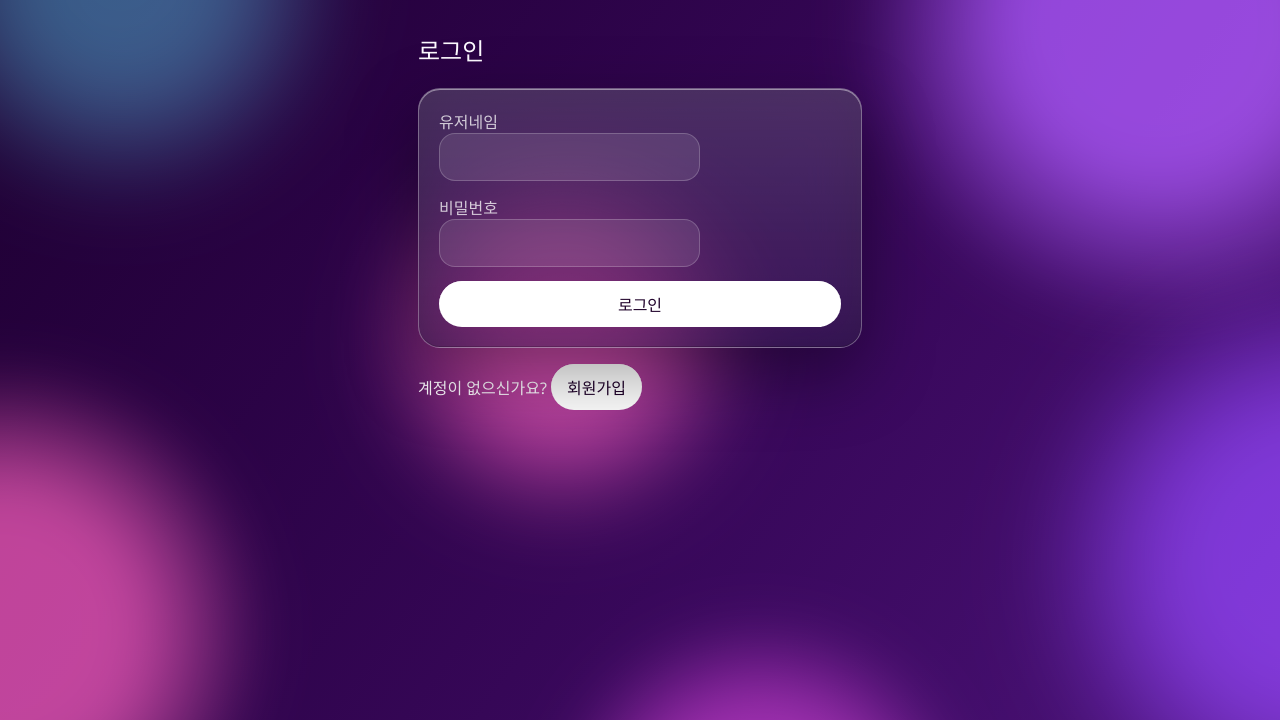
Test: LoginPage — validation and submit › client validation: too-short username blocks the request and shows a field error
Type "a" into the field labelled "유저네임" at (570, 157), box [439,133,700,181]
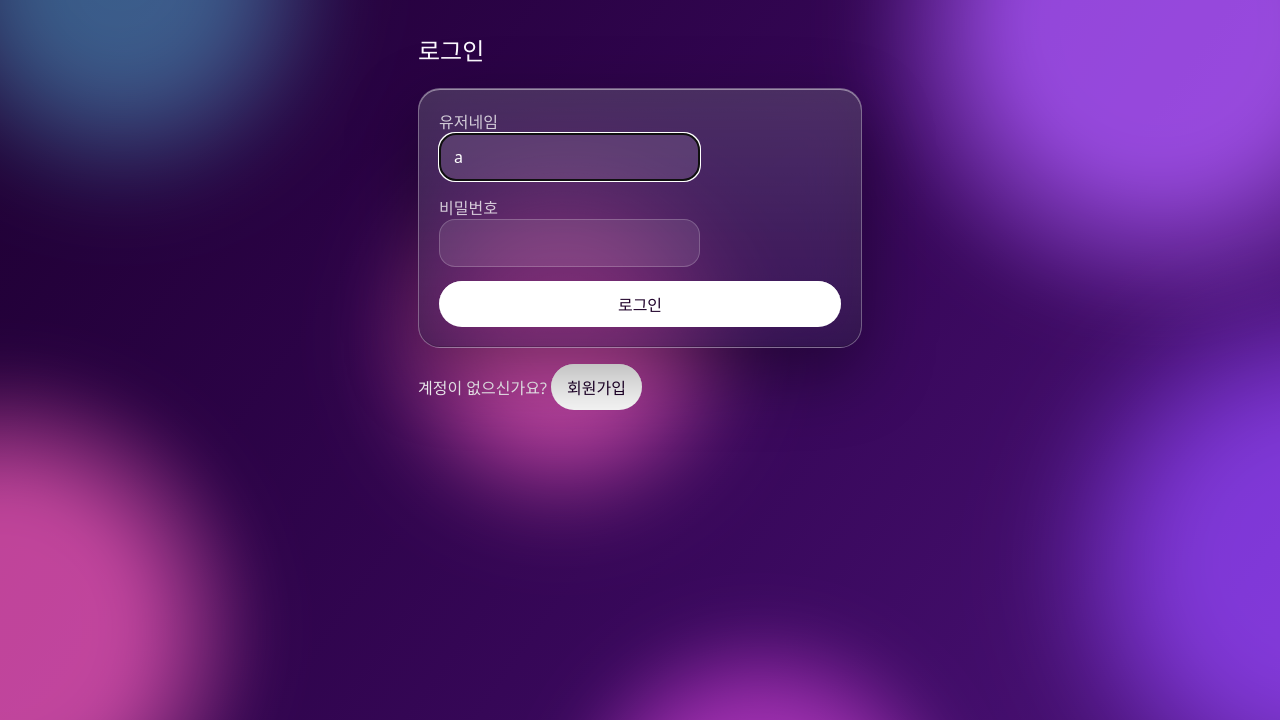
Type "password123" into the password field labelled "비밀번호" at (570, 243), box [439,219,700,267]
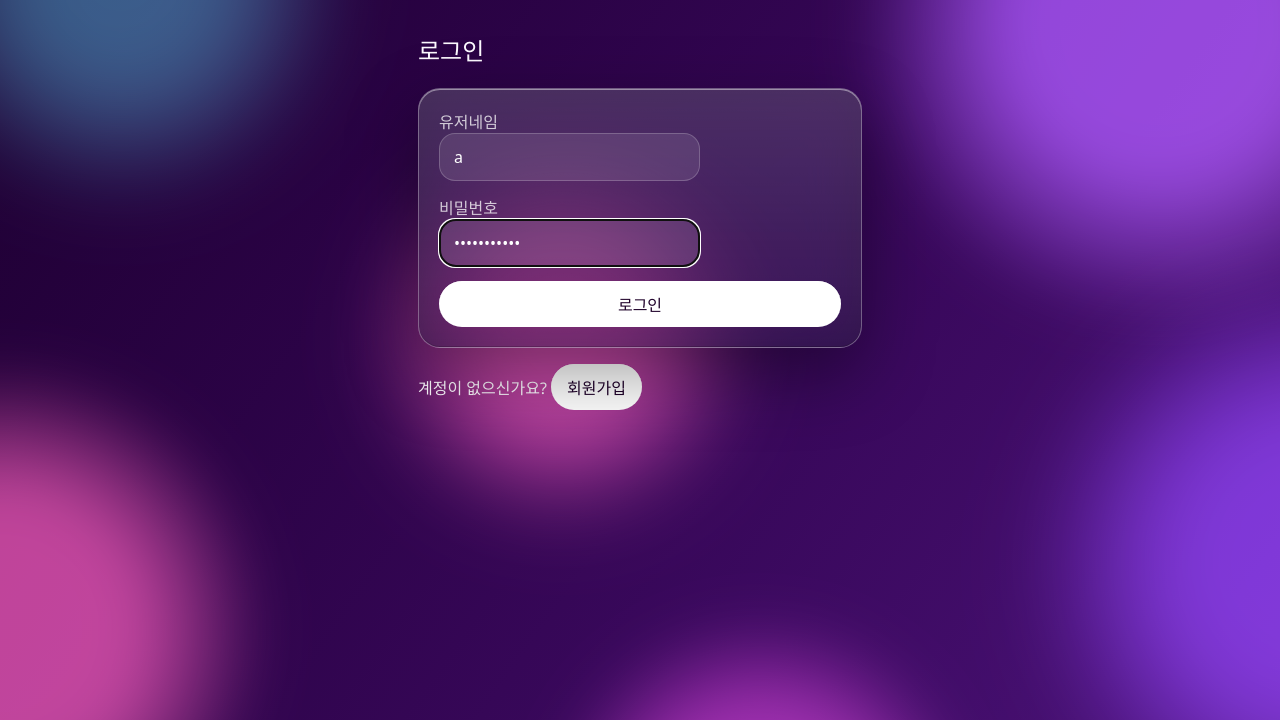
Click the button "로그인" at (640, 304), box [439,281,841,327]
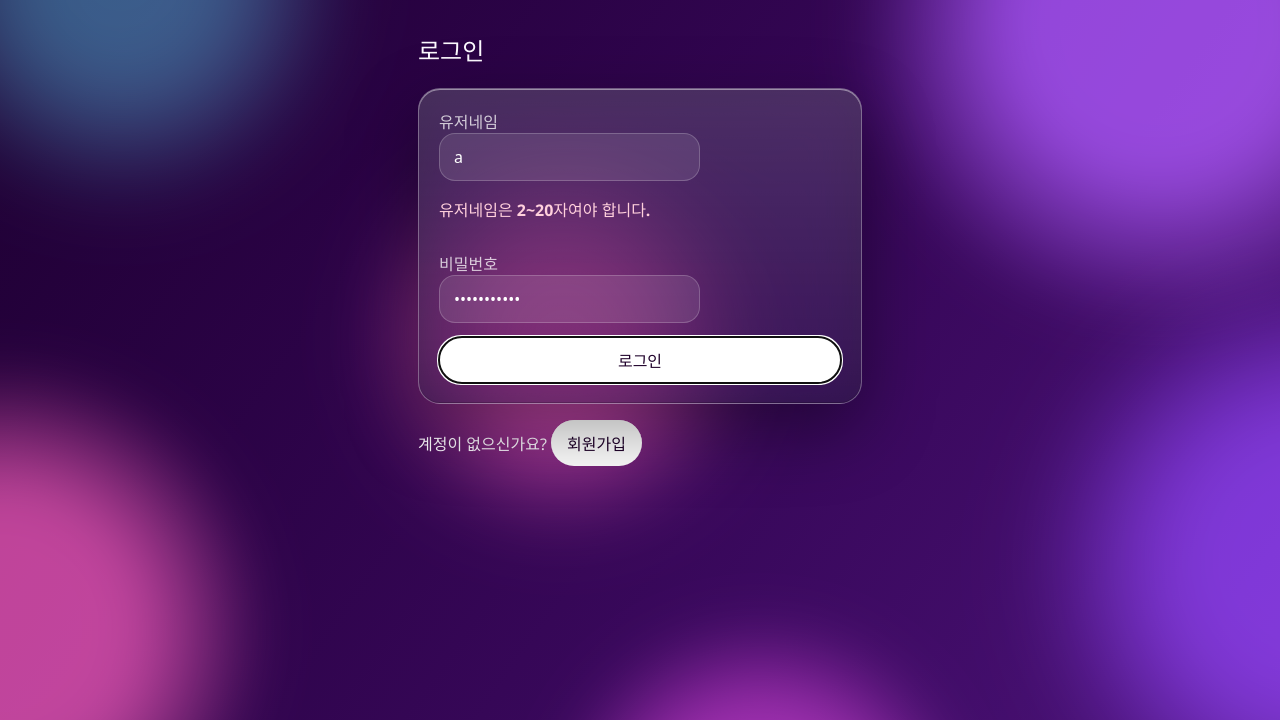
Check: the text "유저네임은 2~20자여야 합니다." is shown, box [439,199,650,221]
